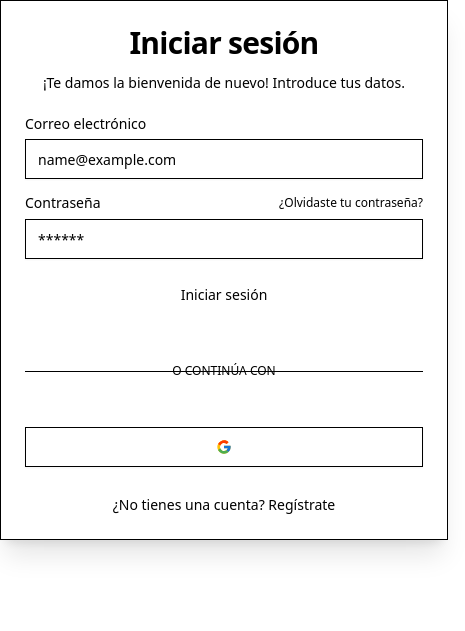
Test: auth cards › show validation errors in the active language
The image size is (465, 631).
Step 1. Click the button "Iniciar sesión" → (224, 295), box left=25, top=275, right=423, bottom=315
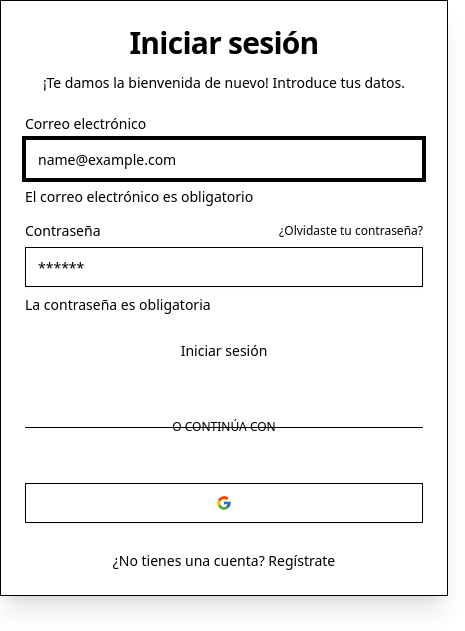
Check: the text "El correo electrónico es obligatorio" is shown, box left=25, top=187, right=253, bottom=206
